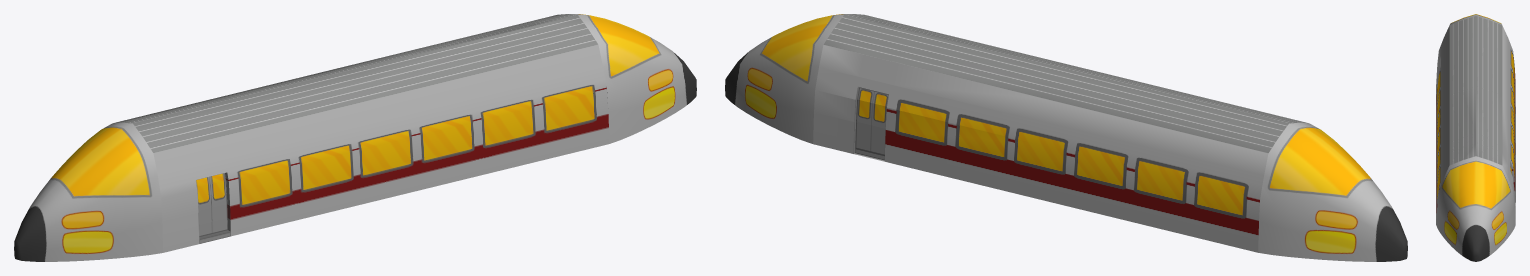
File: Subway Train V3 (1).fbx
3 renders of one model, left to right at view 1: azimuth 30°, elevation 25°; view 2: azimuth 150°, elevation 25°; view 3: azimuth 270°, elevation 25°, orthographic. The views are drawn at different scales.
Visible parts, largest first — view 1: Train_Front, Train_Body, Front_Train_Door; view 2: Train_Body, Rear_Train_Door; view 3: Train_Body, Train_Front.
Boxes of the visible parts, x1,y1,x2,y2 form: Train_Front: [153, 45, 609, 252]; Train_Body: [14, 14, 696, 261]; Front_Train_Door: [196, 173, 227, 236]; Train_Body: [725, 14, 1407, 261]; Rear_Train_Door: [855, 87, 888, 160]; Train_Body: [1436, 14, 1515, 261]; Train_Front: [1436, 25, 1449, 224].
Bounding box in the file's own units: 16.67 × 2.5 × 2.62.
Materials: 1 (1 with a texture image).
